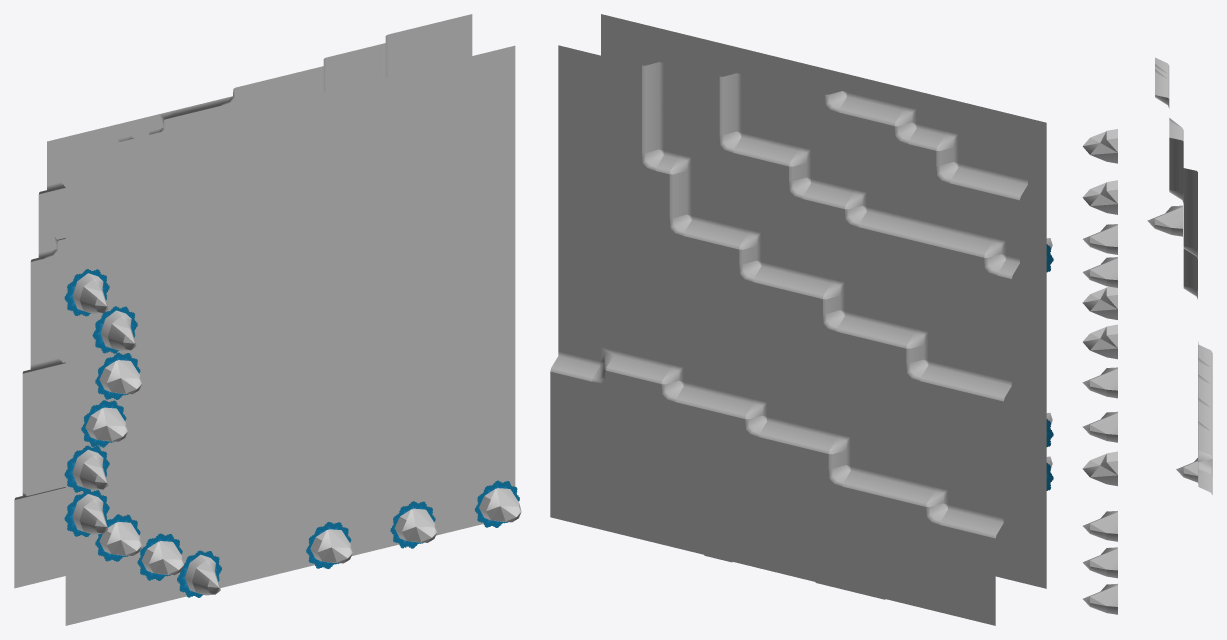
The model's file is Asteria_14_25.obj.
The picture shows the model from 3 angles, left to right: view 1: azimuth 30°, elevation 25°; view 2: azimuth 150°, elevation 25°; view 3: azimuth 270°, elevation 25°; orthographic projection. The views are drawn at different scales.
Visible parts, largest first — view 1: map; view 2: map; view 3: map.
Boxes of the visible parts, x1=… form: map: x1=14, y1=14, x2=521, y2=625; map: x1=550, y1=14, x2=1053, y2=625; map: x1=1082, y1=57, x2=1212, y2=614.
Size of the model in its own units: 32.41 by 32.3 by 9.04.
